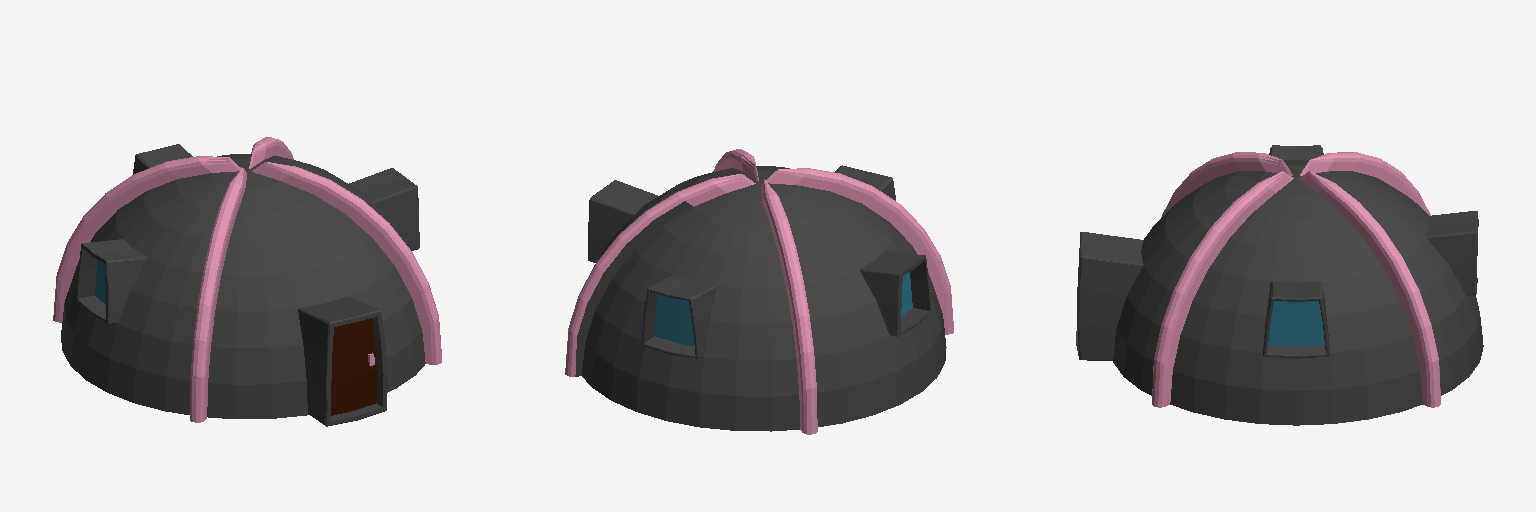
File: FoldOutTent.obj
3 views of the same model, side by side, from view 1: azimuth 30°, elevation 25°; view 2: azimuth 150°, elevation 25°; view 3: azimuth 270°, elevation 25° (orthographic).
Parts seen in each view (by area): view 1: Sphere001; view 2: Sphere001; view 3: Sphere001.
Boxes of the visible parts, x1,y1,x2,y2 form: Sphere001: [53, 137, 441, 426]; Sphere001: [565, 149, 953, 434]; Sphere001: [1076, 145, 1483, 425].
Size of the model in its own units: 1215698 by 648650 by 1322854.